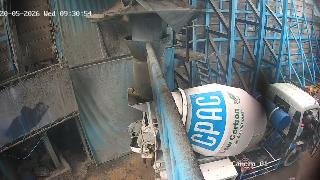cement_mixer_truck: (128, 81, 320, 180)
swing_chute: (124, 36, 170, 97)
